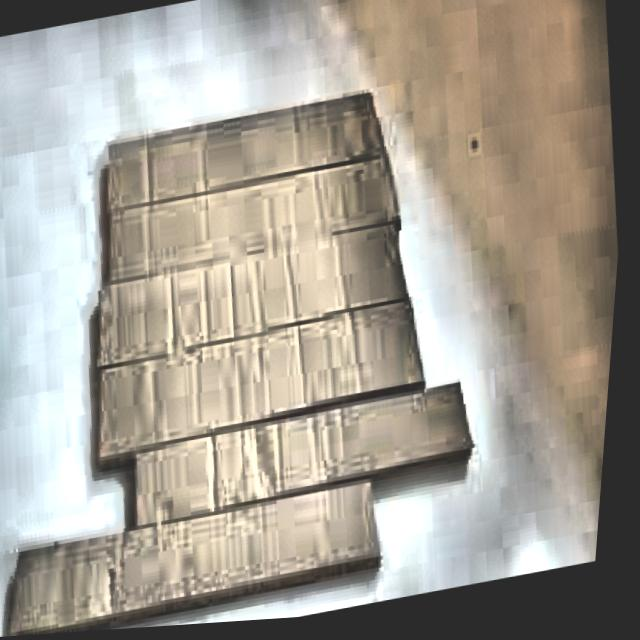Cardbox: (0, 46, 523, 640)
